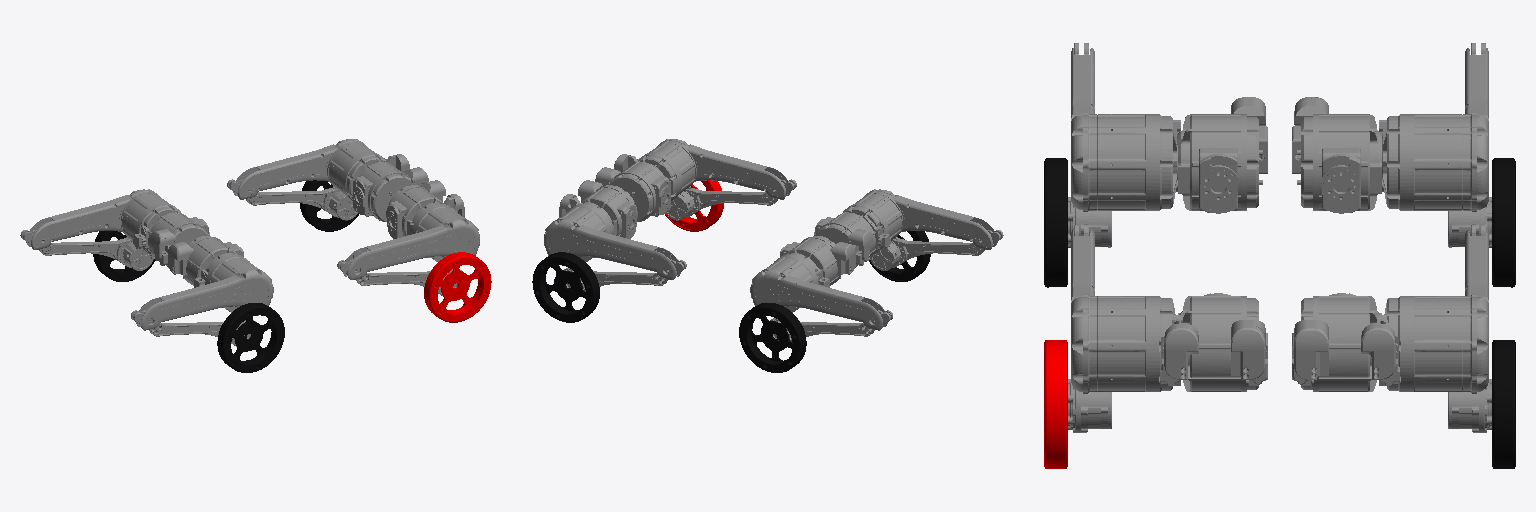
robot.urdf — hb50w:
<?xml version="1.0" ?>
<!-- =================================================================================== -->
<!-- |    This document was autogenerated by xacro from urdf/hb50w/hb50w.urdf.xacro    | -->
<!-- |    EDITING THIS FILE BY HAND IS NOT RECOMMENDED                                 | -->
<!-- =================================================================================== -->
<robot name="hb50w">
  <material name="silver">
    <color rgba="0.6 0.6 0.6 1"/>
  </material>
  <material name="black">
    <color rgba="0.1 0.1 0.1 1"/>
  </material>
  <material name="red">
    <color rgba="1 0 0 1"/>
  </material>
  <material name="orange">
    <color rgba="1 0.41 0 1"/>
  </material>
  <!-- Root link, free-floating base -->
  <link name="body">
    <inertial>
      <mass value="9.222"/>
      <inertia ixx="0.04644" ixy="0" ixz="0" iyy="0.10130" iyz="0" izz="0.13120"/>
    </inertial>
    <visual>
      <geometry>
        <mesh filename="package://robot_models/meshes/hb50w/visual/hb50w_body.stl" scale="0.001 0.001 0.001"/>
      </geometry>
      <material name="silver"/>
    </visual>
    <collision>
      <origin xyz="0 0 -0.002"/>
      <geometry>
        <box size="0.196 0.152 0.124"/>
      </geometry>
    </collision>
    <collision>
      <origin rpy="0 1.570796 0" xyz="0 -0.064 0"/>
      <geometry>
        <cylinder length="0.33" radius="0.056"/>
      </geometry>
    </collision>
    <collision>
      <origin rpy="0 1.570796 0" xyz="0 0.064 0"/>
      <geometry>
        <cylinder length="0.33" radius="0.056"/>
      </geometry>
    </collision>
    <collision>
      <origin xyz="0.09 0 0.057"/>
      <geometry>
        <box size="0.048 0.128 0.048"/>
      </geometry>
    </collision>
  </link>
  <!-- L0 : hip abduction link -->
  <link name="fr_l0">
    <inertial>
      <origin xyz="0.059079 0.004785 -0.000588"/>
      <mass value="1.536"/>
      <inertia ixx="0.001492" ixy="0" ixz="0" iyy="0.001701" iyz="0" izz="0.001759"/>
    </inertial>
    <visual>
      <geometry>
        <mesh filename="package://robot_models/meshes/hb50w/visual/hb50w_l0_fr_rl.stl" scale="0.001 0.001 0.001"/>
      </geometry>
      <material name="silver"/>
    </visual>
    <collision>
      <origin rpy="1.570796 0 0" xyz="0.0585 0 0"/>
      <geometry>
        <cylinder length="0.084" radius="0.051"/>
      </geometry>
    </collision>
  </link>
  <!-- L1 : upper leg -->
  <link name="fr_l1">
    <inertial>
      <origin xyz="0.055224 -0.015337 0.003302"/>
      <mass value="1.784"/>
      <inertia ixx="0.006461" ixy="0" ixz="0" iyy="0.002438" iyz="0" izz="0.007101"/>
    </inertial>
    <visual>
      <origin rpy="0 0 0"/>
      <geometry>
        <mesh filename="package://robot_models/meshes/hb50w/visual/hb50w_l1_fr.stl" scale="0.001 0.001 0.001"/>
      </geometry>
      <material name="silver"/>
    </visual>
    <collision>
      <origin rpy="0 1.570796 0" xyz="0.057 0 0"/>
      <geometry>
        <cylinder length="0.11" radius="0.051"/>
      </geometry>
    </collision>
    <collision>
      <origin rpy="0.05 0 0" xyz="0.098 -0.134 0.013"/>
      <geometry>
        <box size="0.028 0.22 0.052"/>
      </geometry>
    </collision>
  </link>
  <!-- L2 : lower leg -->
  <link name="fr_l2">
    <inertial>
      <origin xyz="-0.001567 -0.190811 0.000848"/>
      <mass value="0.526"/>
      <inertia ixx="0.002319" ixy="0" ixz="0" iyy="0.0001582" iyz="0" izz="0.002306"/>
    </inertial>
    <visual>
      <origin rpy="3.141593 0 0"/>
      <geometry>
        <mesh filename="package://robot_models/meshes/hb50w/visual/hb50w_l2_r.stl" scale="0.001 0.001 0.001"/>
      </geometry>
      <material name="silver"/>
    </visual>
    <collision>
      <origin rpy="1.2 0 0" xyz="0 0.01 0.004"/>
      <geometry>
        <cylinder length="0.06" radius="0.012"/>
      </geometry>
    </collision>
    <collision>
      <origin rpy="1.699994 0.003670 0.010561" xyz="0 -0.11 0.006"/>
      <geometry>
        <cylinder length="0.196" radius="0.016"/>
      </geometry>
    </collision>
    <collision>
      <origin rpy="0 1.570796 0" xyz="-0.0072 -0.22 0"/>
      <geometry>
        <cylinder length="0.05" radius="0.028"/>
      </geometry>
    </collision>
  </link>
  <!-- Wheel -->
  <link name="fr_w">
    <inertial>
      <origin xyz="0.006794 0 0"/>
      <mass value="0.235"/>
      <inertia ixx="0.0007179" ixy="0" ixz="0" iyy="0.0003692" iyz="0" izz="0.0003692"/>
    </inertial>
    <visual>
      <geometry>
        <mesh filename="package://robot_models/meshes/hb50w/visual/hb50w_wheel.stl" scale="0.001 0.001 0.001"/>
      </geometry>
      <material name="red"/>
    </visual>
    <collision>
      <origin rpy="0 1.570796 0" xyz="0.009 0 0"/>
      <geometry>
        <cylinder length="0.024" radius="0.0679"/>
      </geometry>
    </collision>
  </link>
  <!-- Joints -->
  <joint name="fr_j0" type="revolute">
    <parent link="body"/>
    <child link="fr_l0"/>
    <origin rpy="0 0 0" xyz="0.1661 -0.064 0"/>
    <axis xyz="1 0 0"/>
    <limit effort="24.0" lower="-1.047198" upper="1.570796" velocity="20.0"/>
    <dynamics damping="0.1" friction="0.48"/>
  </joint>
  <joint name="fr_j1" type="revolute">
    <parent link="fr_l0"/>
    <child link="fr_l1"/>
    <origin rpy="0 0 -1.570796" xyz="0.0585 -0.0425 0"/>
    <axis xyz="1 0 0"/>
    <limit effort="24.0" lower="-1.570796" upper="1.570796" velocity="20.0"/>
    <dynamics damping="0.1" friction="0.48"/>
  </joint>
  <joint name="fr_j2" type="revolute">
    <parent link="fr_l1"/>
    <child link="fr_l2"/>
    <origin rpy="2.792527 0 0" xyz="0.10015 -0.22 0"/>
    <axis xyz="1 0 0"/>
    <limit effort="24.0" lower="-2.70526" upper="0" velocity="20.0"/>
    <dynamics damping="0.1" friction="0.48"/>
  </joint>
  <joint name="fr_j3" type="continuous">
    <parent link="fr_l2"/>
    <child link="fr_w"/>
    <origin xyz="0.0175 -0.22 0"/>
    <axis xyz="1 0 0"/>
    <limit effort="7.0" velocity="40.0"/>
    <dynamics damping="0.1" friction="0.1"/>
  </joint>
  <!-- L0 : hip abduction link -->
  <link name="fl_l0">
    <inertial>
      <origin xyz="0.059079 -0.004785 0.000588"/>
      <mass value="1.536"/>
      <inertia ixx="0.001492" ixy="0" ixz="0" iyy="0.001701" iyz="0" izz="0.001759"/>
    </inertial>
    <visual>
      <geometry>
        <mesh filename="package://robot_models/meshes/hb50w/visual/hb50w_l0_fl_rr.stl" scale="0.001 0.001 0.001"/>
      </geometry>
      <material name="silver"/>
    </visual>
    <collision>
      <origin rpy="1.570796 0 0" xyz="0.0585 0 0"/>
      <geometry>
        <cylinder length="0.084" radius="0.051"/>
      </geometry>
    </collision>
  </link>
  <!-- L1 : upper leg -->
  <link name="fl_l1">
    <inertial>
      <origin xyz="0.055224 0.015337 0.003302"/>
      <mass value="1.784"/>
      <inertia ixx="0.006461" ixy="0" ixz="0" iyy="0.002438" iyz="0" izz="0.007101"/>
    </inertial>
    <visual>
      <origin rpy="0 0 3.141593"/>
      <geometry>
        <mesh filename="package://robot_models/meshes/hb50w/visual/hb50w_l1_fl.stl" scale="0.001 0.001 0.001"/>
      </geometry>
      <material name="silver"/>
    </visual>
    <collision>
      <origin rpy="0 1.570796 0" xyz="0.057 0 0"/>
      <geometry>
        <cylinder length="0.11" radius="0.051"/>
      </geometry>
    </collision>
    <collision>
      <origin rpy="-0.05 0 0" xyz="0.098 0.134 0.013"/>
      <geometry>
        <box size="0.028 0.22 0.052"/>
      </geometry>
    </collision>
  </link>
  <!-- L2 : lower leg -->
  <link name="fl_l2">
    <inertial>
      <origin xyz="-0.001567 0.190811 0.000848"/>
      <mass value="0.526"/>
      <inertia ixx="0.002319" ixy="0" ixz="0" iyy="0.0001582" iyz="0" izz="0.002306"/>
    </inertial>
    <visual>
      <origin rpy="0 3.141593 0"/>
      <geometry>
        <mesh filename="package://robot_models/meshes/hb50w/visual/hb50w_l2_l.stl" scale="0.001 0.001 0.001"/>
      </geometry>
      <material name="silver"/>
    </visual>
    <collision>
      <origin rpy="-1.2 0 0" xyz="0 -0.01 0.004"/>
      <geometry>
        <cylinder length="0.06" radius="0.012"/>
      </geometry>
    </collision>
    <collision>
      <origin rpy="-1.699994 0.003670 -0.010561" xyz="0 0.11 0.006"/>
      <geometry>
        <cylinder length="0.196" radius="0.016"/>
      </geometry>
    </collision>
    <collision>
      <origin rpy="0 1.570796 0" xyz="-0.0072 0.22 0"/>
      <geometry>
        <cylinder length="0.05" radius="0.028"/>
      </geometry>
    </collision>
  </link>
  <!-- Wheel -->
  <link name="fl_w">
    <inertial>
      <origin xyz="0.006794 0 0"/>
      <mass value="0.235"/>
      <inertia ixx="0.0007179" ixy="0" ixz="0" iyy="0.0003692" iyz="0" izz="0.0003692"/>
    </inertial>
    <visual>
      <geometry>
        <mesh filename="package://robot_models/meshes/hb50w/visual/hb50w_wheel.stl" scale="0.001 0.001 0.001"/>
      </geometry>
      <material name="black"/>
    </visual>
    <collision>
      <origin rpy="0 1.570796 0" xyz="0.009 0 0"/>
      <geometry>
        <cylinder length="0.024" radius="0.0679"/>
      </geometry>
    </collision>
  </link>
  <!-- Joints -->
  <joint name="fl_j0" type="revolute">
    <parent link="body"/>
    <child link="fl_l0"/>
    <origin rpy="0 0 0" xyz="0.1661 0.064 0"/>
    <axis xyz="1 0 0"/>
    <limit effort="24.0" lower="-1.570796" upper="1.047198" velocity="20.0"/>
    <dynamics damping="0.1" friction="0.48"/>
  </joint>
  <joint name="fl_j1" type="revolute">
    <parent link="fl_l0"/>
    <child link="fl_l1"/>
    <origin rpy="0 0 1.570796" xyz="0.0585 0.0425 0"/>
    <axis xyz="1 0 0"/>
    <limit effort="24.0" lower="-1.570796" upper="1.570796" velocity="20.0"/>
    <dynamics damping="0.1" friction="0.48"/>
  </joint>
  <joint name="fl_j2" type="revolute">
    <parent link="fl_l1"/>
    <child link="fl_l2"/>
    <origin rpy="-2.792527 0 0" xyz="0.10015 0.22 0"/>
    <axis xyz="1 0 0"/>
    <limit effort="24.0" lower="0" upper="2.70526" velocity="20.0"/>
    <dynamics damping="0.1" friction="0.48"/>
  </joint>
  <joint name="fl_j3" type="continuous">
    <parent link="fl_l2"/>
    <child link="fl_w"/>
    <origin xyz="0.0175 0.22 0"/>
    <axis xyz="1 0 0"/>
    <limit effort="7.0" velocity="40.0"/>
    <dynamics damping="0.1" friction="0.1"/>
  </joint>
  <!-- L0 : hip abduction link -->
  <link name="rl_l0">
    <inertial>
      <origin xyz="0.058684 0.004487 0.000600"/>
      <mass value="1.525"/>
      <inertia ixx="0.001474" ixy="0" ixz="0" iyy="0.001666" iyz="0" izz="0.001711"/>
    </inertial>
    <visual>
      <geometry>
        <mesh filename="package://robot_models/meshes/hb50w/visual/hb50w_l0_fr_rl.stl" scale="0.001 0.001 0.001"/>
      </geometry>
      <material name="silver"/>
    </visual>
    <collision>
      <origin rpy="1.570796 0 0" xyz="0.0585 0 0"/>
      <geometry>
        <cylinder length="0.084" radius="0.051"/>
      </geometry>
    </collision>
  </link>
  <!-- L1 : upper leg -->
  <link name="rl_l1">
    <inertial>
      <origin xyz="0.055591 0.019865 0.002679"/>
      <mass value="1.753"/>
      <inertia ixx="0.006329" ixy="0" ixz="0" iyy="0.002338" iyz="0" izz="0.006986"/>
    </inertial>
    <visual>
      <origin rpy="0 0 3.141593"/>
      <geometry>
        <mesh filename="package://robot_models/meshes/hb50w/visual/hb50w_l1_rl.stl" scale="0.001 0.001 0.001"/>
      </geometry>
      <material name="silver"/>
    </visual>
    <collision>
      <origin rpy="0 1.570796 0" xyz="0.057 0 0"/>
      <geometry>
        <cylinder length="0.11" radius="0.051"/>
      </geometry>
    </collision>
    <collision>
      <origin rpy="-0.05 0 0" xyz="0.098 0.134 0.013"/>
      <geometry>
        <box size="0.028 0.22 0.052"/>
      </geometry>
    </collision>
  </link>
  <!-- L2 : lower leg -->
  <link name="rl_l2">
    <inertial>
      <origin xyz="-0.001567 0.190811 0.000848"/>
      <mass value="0.526"/>
      <inertia ixx="0.002319" ixy="0" ixz="0" iyy="0.0001582" iyz="0" izz="0.002306"/>
    </inertial>
    <visual>
      <origin rpy="0 3.141593 0"/>
      <geometry>
        <mesh filename="package://robot_models/meshes/hb50w/visual/hb50w_l2_l.stl" scale="0.001 0.001 0.001"/>
      </geometry>
      <material name="silver"/>
    </visual>
    <collision>
      <origin rpy="-1.2 0 0" xyz="0 -0.01 0.004"/>
      <geometry>
        <cylinder length="0.06" radius="0.012"/>
      </geometry>
    </collision>
    <collision>
      <origin rpy="-1.699994 0.003670 -0.010561" xyz="0 0.11 0.006"/>
      <geometry>
        <cylinder length="0.196" radius="0.016"/>
      </geometry>
    </collision>
    <collision>
      <origin rpy="0 1.570796 0" xyz="-0.0072 0.22 0"/>
      <geometry>
        <cylinder length="0.05" radius="0.028"/>
      </geometry>
    </collision>
  </link>
  <!-- Wheel -->
  <link name="rl_w">
    <inertial>
      <origin xyz="0.006794 0 0"/>
      <mass value="0.235"/>
      <inertia ixx="0.0007179" ixy="0" ixz="0" iyy="0.0003692" iyz="0" izz="0.0003692"/>
    </inertial>
    <visual>
      <geometry>
        <mesh filename="package://robot_models/meshes/hb50w/visual/hb50w_wheel.stl" scale="0.001 0.001 0.001"/>
      </geometry>
      <material name="black"/>
    </visual>
    <collision>
      <origin rpy="0 1.570796 0" xyz="0.009 0 0"/>
      <geometry>
        <cylinder length="0.024" radius="0.0679"/>
      </geometry>
    </collision>
  </link>
  <!-- Joints -->
  <joint name="rl_j0" type="revolute">
    <parent link="body"/>
    <child link="rl_l0"/>
    <origin rpy="0 0 -3.141593" xyz="-0.1645 0.064 0"/>
    <axis xyz="1 0 0"/>
    <limit effort="24.0" lower="-1.047198" upper="1.570796" velocity="20.0"/>
    <dynamics damping="0.1" friction="0.48"/>
  </joint>
  <joint name="rl_j1" type="revolute">
    <parent link="rl_l0"/>
    <child link="rl_l1"/>
    <origin rpy="0 0 -1.570796" xyz="0.0585 -0.0425 0"/>
    <axis xyz="1 0 0"/>
    <limit effort="24.0" lower="-3.141593" upper="1.570796" velocity="20.0"/>
    <dynamics damping="0.1" friction="0.48"/>
  </joint>
  <joint name="rl_j2" type="revolute">
    <parent link="rl_l1"/>
    <child link="rl_l2"/>
    <origin rpy="-2.792527 0 0" xyz="0.10015 0.22 0"/>
    <axis xyz="1 0 0"/>
    <limit effort="24.0" lower="0" upper="2.70526" velocity="20.0"/>
    <dynamics damping="0.1" friction="0.48"/>
  </joint>
  <joint name="rl_j3" type="continuous">
    <parent link="rl_l2"/>
    <child link="rl_w"/>
    <origin xyz="0.0175 0.22 0"/>
    <axis xyz="1 0 0"/>
    <limit effort="7.0" velocity="40.0"/>
    <dynamics damping="0.1" friction="0.1"/>
  </joint>
  <!-- L0 : hip abduction link -->
  <link name="rr_l0">
    <inertial>
      <origin xyz="0.058684 -0.004487 -0.000600"/>
      <mass value="1.525"/>
      <inertia ixx="0.001474" ixy="0" ixz="0" iyy="0.001666" iyz="0" izz="0.001711"/>
    </inertial>
    <visual>
      <geometry>
        <mesh filename="package://robot_models/meshes/hb50w/visual/hb50w_l0_fl_rr.stl" scale="0.001 0.001 0.001"/>
      </geometry>
      <material name="silver"/>
    </visual>
    <collision>
      <origin rpy="1.570796 0 0" xyz="0.0585 0 0"/>
      <geometry>
        <cylinder length="0.084" radius="0.051"/>
      </geometry>
    </collision>
  </link>
  <!-- L1 : upper leg -->
  <link name="rr_l1">
    <inertial>
      <origin xyz="0.055591 -0.019865 0.002679"/>
      <mass value="1.753"/>
      <inertia ixx="0.006329" ixy="0" ixz="0" iyy="0.002338" iyz="0" izz="0.006986"/>
    </inertial>
    <visual>
      <origin rpy="0 0 0"/>
      <geometry>
        <mesh filename="package://robot_models/meshes/hb50w/visual/hb50w_l1_rr.stl" scale="0.001 0.001 0.001"/>
      </geometry>
      <material name="silver"/>
    </visual>
    <collision>
      <origin rpy="0 1.570796 0" xyz="0.057 0 0"/>
      <geometry>
        <cylinder length="0.11" radius="0.051"/>
      </geometry>
    </collision>
    <collision>
      <origin rpy="0.05 0 0" xyz="0.098 -0.134 0.013"/>
      <geometry>
        <box size="0.028 0.22 0.052"/>
      </geometry>
    </collision>
  </link>
  <!-- L2 : lower leg -->
  <link name="rr_l2">
    <inertial>
      <origin xyz="-0.001567 -0.190811 0.000848"/>
      <mass value="0.526"/>
      <inertia ixx="0.002319" ixy="0" ixz="0" iyy="0.0001582" iyz="0" izz="0.002306"/>
    </inertial>
    <visual>
      <origin rpy="3.141593 0 0"/>
      <geometry>
        <mesh filename="package://robot_models/meshes/hb50w/visual/hb50w_l2_r.stl" scale="0.001 0.001 0.001"/>
      </geometry>
      <material name="silver"/>
    </visual>
    <collision>
      <origin rpy="1.2 0 0" xyz="0 0.01 0.004"/>
      <geometry>
        <cylinder length="0.06" radius="0.012"/>
      </geometry>
    </collision>
    <collision>
      <origin rpy="1.699994 0.003670 0.010561" xyz="0 -0.11 0.006"/>
      <geometry>
        <cylinder length="0.196" radius="0.016"/>
      </geometry>
    </collision>
    <collision>
      <origin rpy="0 1.570796 0" xyz="-0.0072 -0.22 0"/>
      <geometry>
        <cylinder length="0.05" radius="0.028"/>
      </geometry>
    </collision>
  </link>
  <!-- Wheel -->
  <link name="rr_w">
    <inertial>
      <origin xyz="0.006794 0 0"/>
      <mass value="0.235"/>
      <inertia ixx="0.0007179" ixy="0" ixz="0" iyy="0.0003692" iyz="0" izz="0.0003692"/>
    </inertial>
    <visual>
      <geometry>
        <mesh filename="package://robot_models/meshes/hb50w/visual/hb50w_wheel.stl" scale="0.001 0.001 0.001"/>
      </geometry>
      <material name="black"/>
    </visual>
    <collision>
      <origin rpy="0 1.570796 0" xyz="0.009 0 0"/>
      <geometry>
        <cylinder length="0.024" radius="0.0679"/>
      </geometry>
    </collision>
  </link>
  <!-- Joints -->
  <joint name="rr_j0" type="revolute">
    <parent link="body"/>
    <child link="rr_l0"/>
    <origin rpy="0 0 -3.141593" xyz="-0.1645 -0.064 0"/>
    <axis xyz="1 0 0"/>
    <limit effort="24.0" lower="-1.570796" upper="1.047198" velocity="20.0"/>
    <dynamics damping="0.1" friction="0.48"/>
  </joint>
  <joint name="rr_j1" type="revolute">
    <parent link="rr_l0"/>
    <child link="rr_l1"/>
    <origin rpy="0 0 1.570796" xyz="0.0585 0.0425 0"/>
    <axis xyz="1 0 0"/>
    <limit effort="24.0" lower="-1.570796" upper="3.141593" velocity="20.0"/>
    <dynamics damping="0.1" friction="0.48"/>
  </joint>
  <joint name="rr_j2" type="revolute">
    <parent link="rr_l1"/>
    <child link="rr_l2"/>
    <origin rpy="2.792527 0 0" xyz="0.10015 -0.22 0"/>
    <axis xyz="1 0 0"/>
    <limit effort="24.0" lower="-2.70526" upper="0" velocity="20.0"/>
    <dynamics damping="0.1" friction="0.48"/>
  </joint>
  <joint name="rr_j3" type="continuous">
    <parent link="rr_l2"/>
    <child link="rr_w"/>
    <origin xyz="0.0175 -0.22 0"/>
    <axis xyz="1 0 0"/>
    <limit effort="7.0" velocity="40.0"/>
    <dynamics damping="0.1" friction="0.1"/>
  </joint>
</robot>

--- Render facts (derived) ---
3 views of the same robot in one strip: view 1: azimuth 30°, elevation 25°; view 2: azimuth 150°, elevation 25°; view 3: azimuth 270°, elevation 25° (orthographic).
Model hb50w with 17 links and 16 joints (12 revolute, 4 continuous), rooted at body, posed every joint at zero.
Links seen in each view (by area): view 1: fr_l1, rr_l1, fl_l1, rl_l1, fr_w, rr_w, fl_l0, rr_l0, rl_l2, fr_l0, fl_l2, rl_l0 (+4 smaller); view 2: fl_l1, rl_l1, fr_l1, rr_l1, rl_w, fl_w, fr_l0, rl_l0, rr_l2, fl_l0, fr_l2, rr_l0 (+4 smaller); view 3: fr_l1, fl_l1, rl_l1, rr_l1, rr_l0, rl_l0, fr_l0, fl_l0, fr_w, fl_w, rl_w, rr_w (+4 smaller).
Link boxes in pixels (x1=…): fr_l1: x1=343, y1=194, x2=479, y2=279; rr_l1: x1=136, y1=253, x2=273, y2=330; fl_l1: x1=233, y1=139, x2=409, y2=200; rl_l1: x1=26, y1=189, x2=180, y2=253; fr_w: x1=424, y1=252, x2=491, y2=322; rr_w: x1=217, y1=303, x2=284, y2=372; fl_l0: x1=353, y1=161, x2=428, y2=221; rr_l0: x1=168, y1=236, x2=243, y2=285; rl_l2: x1=20, y1=230, x2=153, y2=270; fr_l0: x1=386, y1=180, x2=445, y2=238; fl_l2: x1=227, y1=179, x2=357, y2=220; rl_l0: x1=148, y1=212, x2=209, y2=267; fl_l1: x1=544, y1=194, x2=680, y2=279; rl_l1: x1=750, y1=253, x2=887, y2=330; fr_l1: x1=614, y1=139, x2=790, y2=200; rr_l1: x1=843, y1=189, x2=997, y2=253; rl_w: x1=739, y1=303, x2=806, y2=372; fl_w: x1=532, y1=252, x2=599, y2=322; fr_l0: x1=595, y1=161, x2=670, y2=221; rl_l0: x1=780, y1=236, x2=855, y2=285; rr_l2: x1=870, y1=230, x2=1003, y2=270; fl_l0: x1=578, y1=180, x2=637, y2=238; fr_l2: x1=666, y1=179, x2=796, y2=220; rr_l0: x1=814, y1=212, x2=875, y2=267; fr_l1: x1=1071, y1=229, x2=1198, y2=393; fl_l1: x1=1361, y1=229, x2=1488, y2=393; rl_l1: x1=1379, y1=48, x2=1488, y2=211; rr_l1: x1=1071, y1=48, x2=1180, y2=211; rr_l0: x1=1178, y1=97, x2=1267, y2=213; rl_l0: x1=1292, y1=97, x2=1381, y2=213; fr_l0: x1=1178, y1=293, x2=1267, y2=391; fl_l0: x1=1292, y1=293, x2=1381, y2=391; fr_w: x1=1044, y1=340, x2=1067, y2=468; fl_w: x1=1492, y1=340, x2=1515, y2=468; rl_w: x1=1492, y1=158, x2=1515, y2=287; rr_w: x1=1044, y1=158, x2=1067, y2=287.
Size in the robot's own frame: 0.7707 by 0.4903 by 0.1927 metres.
Meshes: 10 distinct files referenced, 16 mesh visuals loaded (9 binary STL); not drawn: 1 (reference not matched to a file when rendering).
